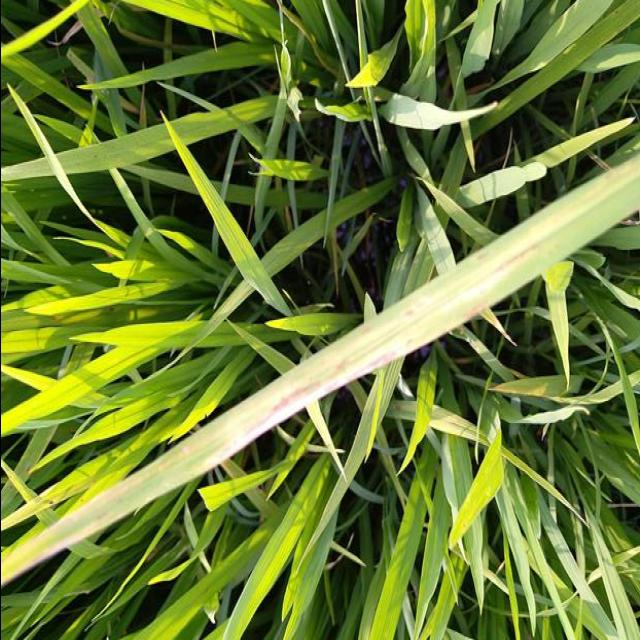Leaf Streak: (0, 156, 640, 592)
